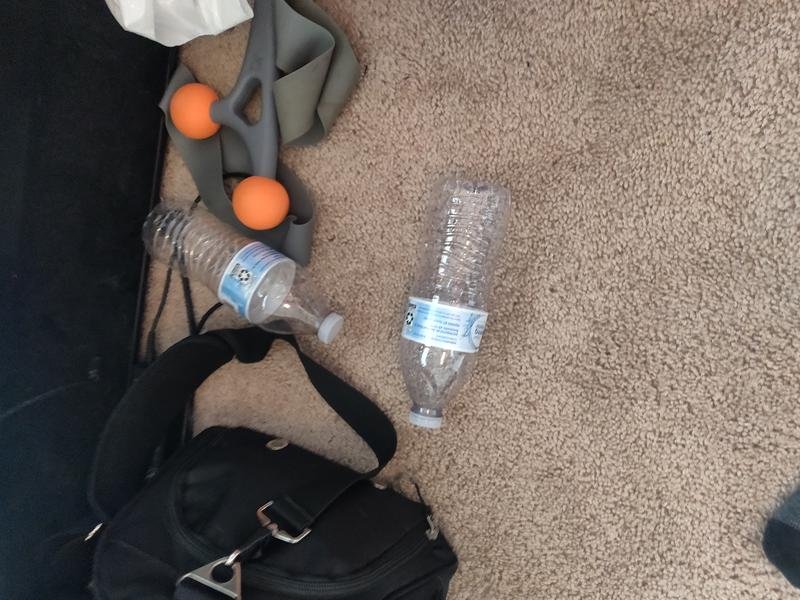bottle: (142, 198, 345, 345), (398, 179, 509, 430)
